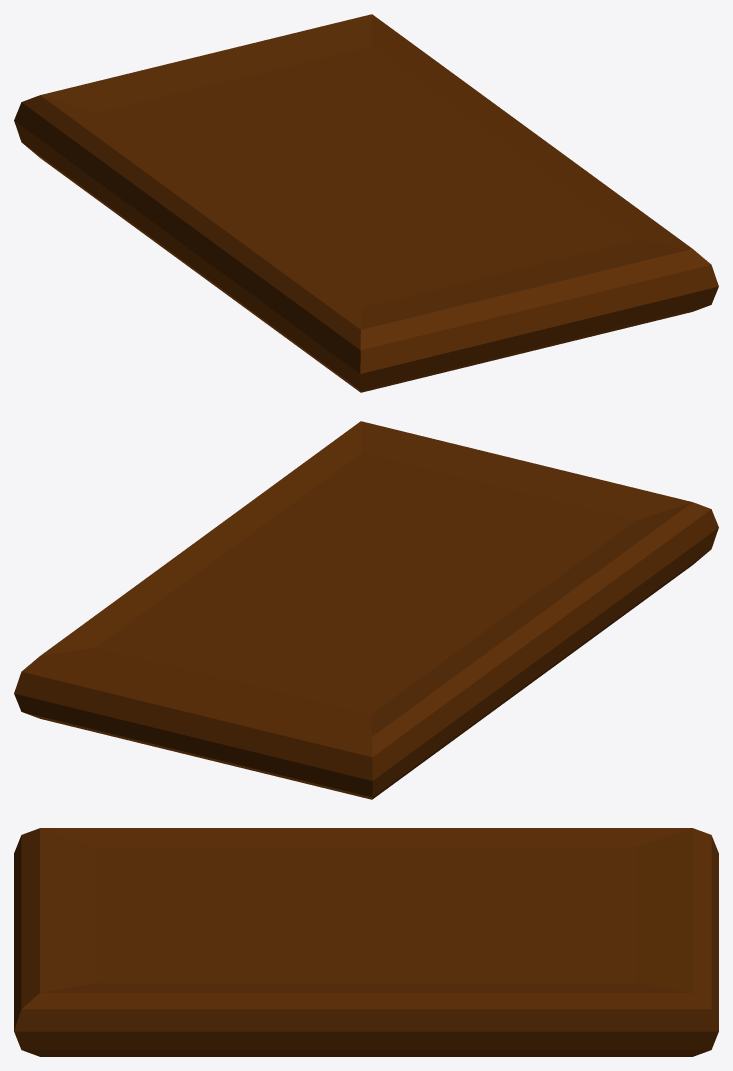
File: wood_platform.fbx
The picture shows the model from 3 angles, top to bottom: view 1: azimuth 30°, elevation 25°; view 2: azimuth 150°, elevation 25°; view 3: azimuth 270°, elevation 25°; orthographic projection.
Parts seen in each view (by area): view 1: Cube.013; view 2: Cube.013; view 3: Cube.013.
Part boxes in pixels (<box>): Cube.013: <box>14,14,718,392</box>; Cube.013: <box>14,421,718,799</box>; Cube.013: <box>14,828,718,1056</box>.
Size of the model in its own units: 279 by 53.22 by 467.
